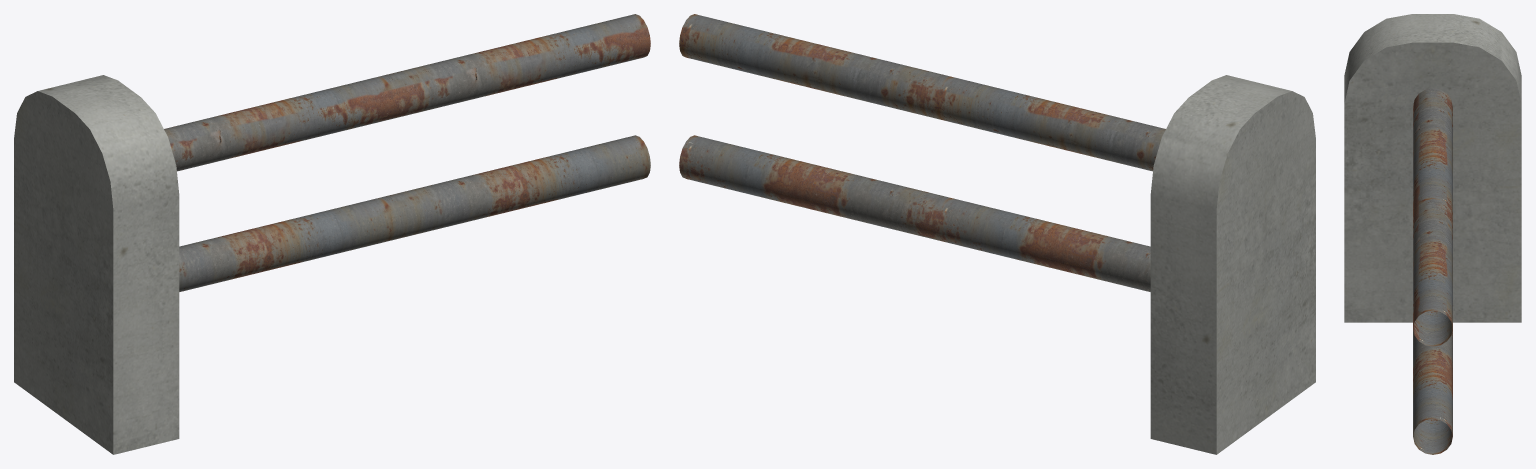
Rendered from Fence3-2.fbx.
3 views of the same model, side by side, from view 1: azimuth 30°, elevation 25°; view 2: azimuth 150°, elevation 25°; view 3: azimuth 270°, elevation 25° (orthographic). The views are drawn at different scales.
Visible parts, largest first — view 1: Fence3-2; view 2: Fence3-2; view 3: Fence3-2.
Part boxes in pixels (x1=…): Fence3-2: x1=14, y1=14, x2=650, y2=454; Fence3-2: x1=679, y1=14, x2=1315, y2=454; Fence3-2: x1=1344, y1=14, x2=1521, y2=454.
Bounding box in the file's own units: 450 × 234 × 134.
